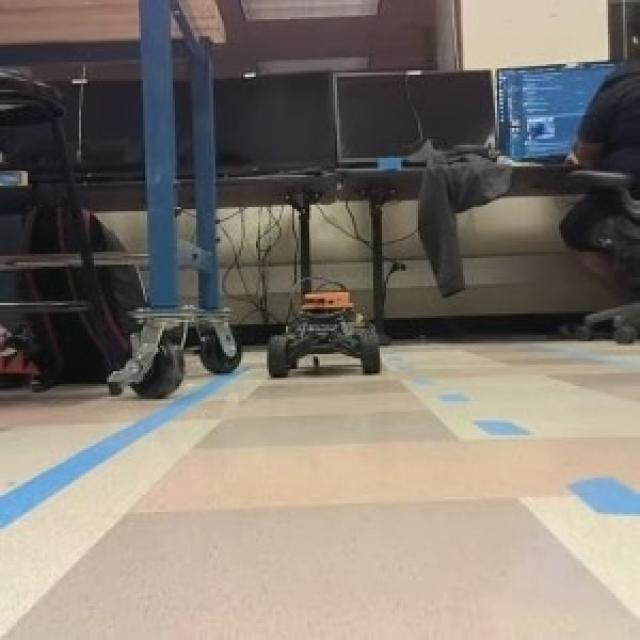obstacle: (267, 288, 385, 379)
